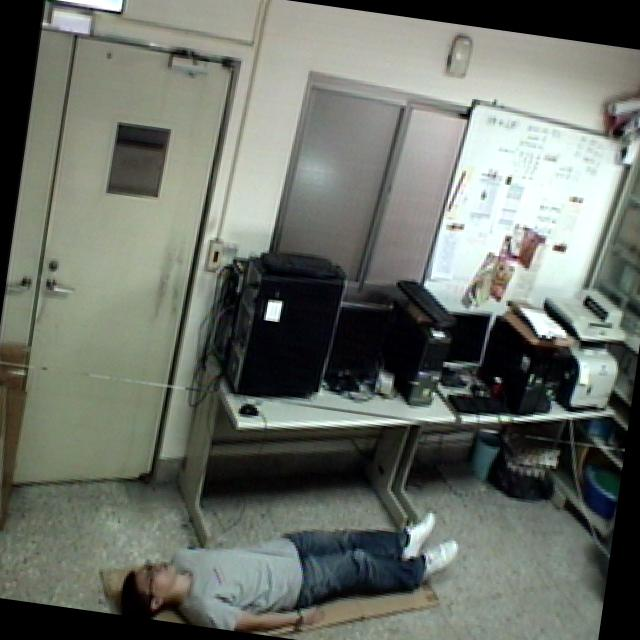lie: (111, 455, 476, 640)
